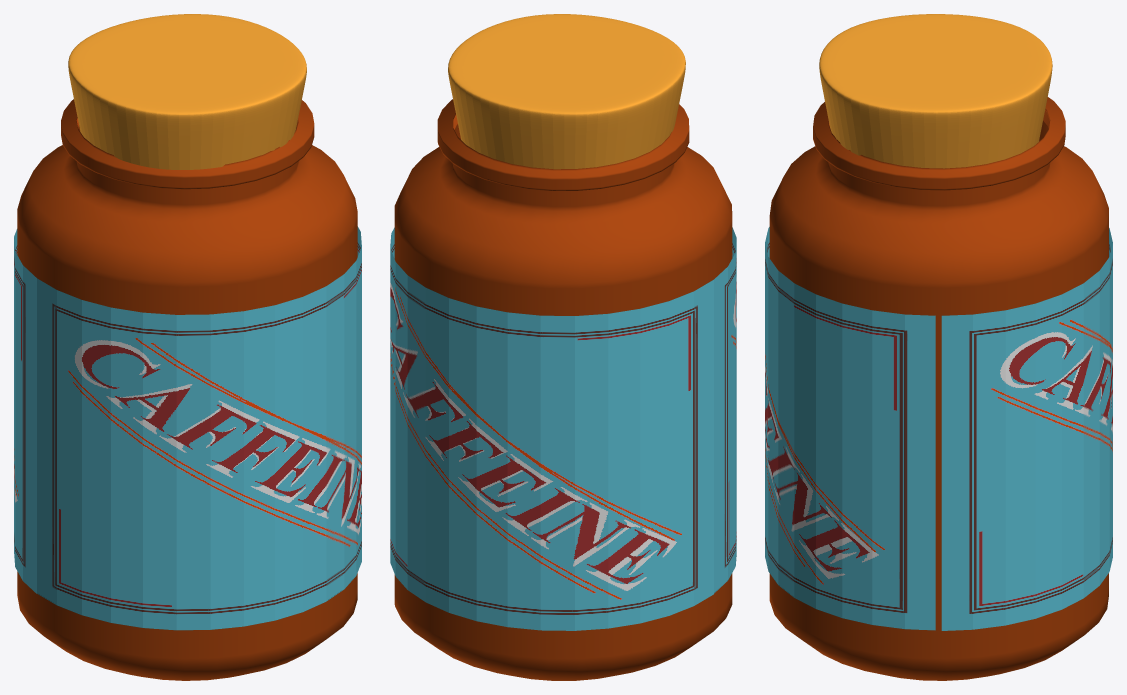
The model's file is medicine.fbx.
3 renders of one model, left to right at view 1: azimuth 30°, elevation 25°; view 2: azimuth 150°, elevation 25°; view 3: azimuth 270°, elevation 25°, orthographic.
Visible parts, largest first — view 1: label, bottle, cork; view 2: label, bottle, cork; view 3: label, bottle, cork.
Part boxes in pixels (x1=…): label: x1=14, y1=226, x2=361, y2=630; bottle: x1=17, y1=99, x2=357, y2=680; cork: x1=68, y1=14, x2=306, y2=169; label: x1=390, y1=227, x2=736, y2=630; bottle: x1=394, y1=99, x2=732, y2=680; cork: x1=448, y1=14, x2=685, y2=169; label: x1=765, y1=227, x2=1112, y2=630; bottle: x1=769, y1=97, x2=1108, y2=680; cork: x1=819, y1=14, x2=1052, y2=168.
Size of the model in its own units: 259 by 478 by 259.
3 materials, 1 textured.
